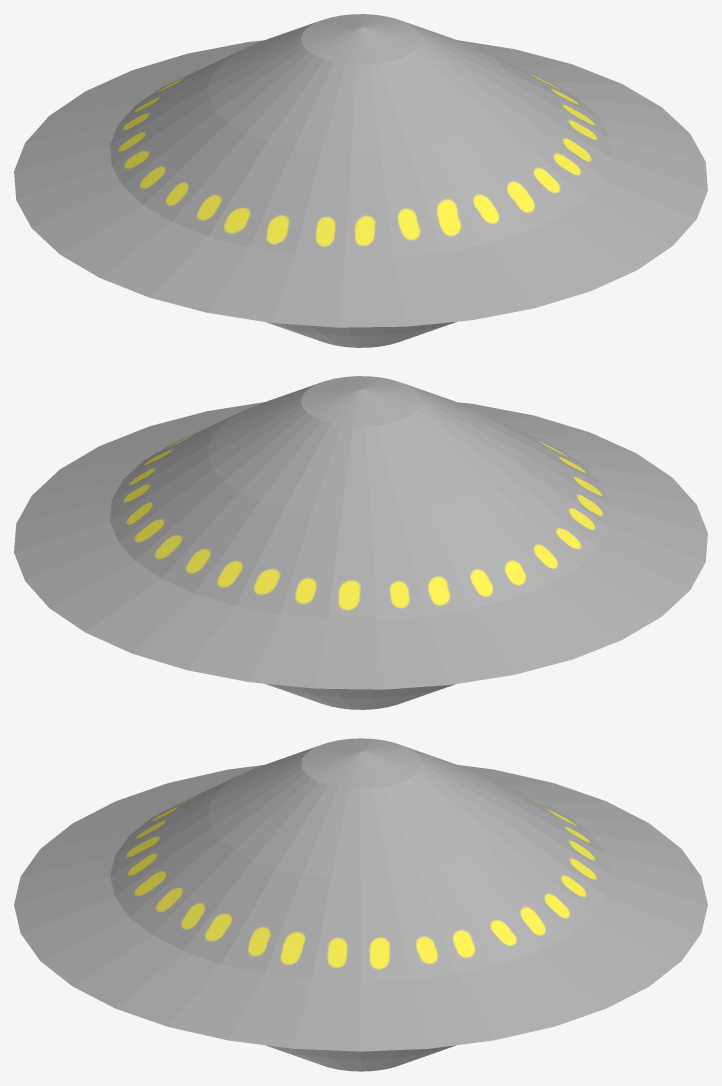
File: enemy.obj
The picture shows the model from 3 angles, top to bottom: view 1: azimuth 30°, elevation 25°; view 2: azimuth 150°, elevation 25°; view 3: azimuth 270°, elevation 25°; orthographic projection.
Visible parts, largest first — view 1: 円; view 2: 円; view 3: 円.
Part boxes in pixels (x1,y1,x2,y2): 円: (14, 14, 707, 347); 円: (14, 376, 707, 709); 円: (14, 738, 707, 1071).
Size of the model in its own units: 2.91 by 1.42 by 2.91.
1 material, 1 textured.
